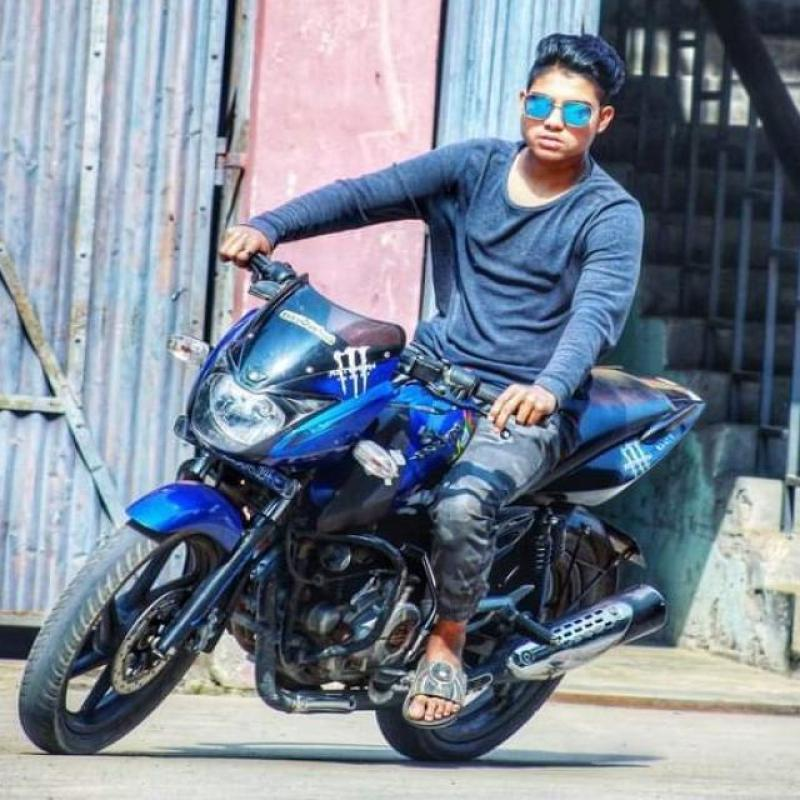nohelmet: (509, 27, 627, 164)
